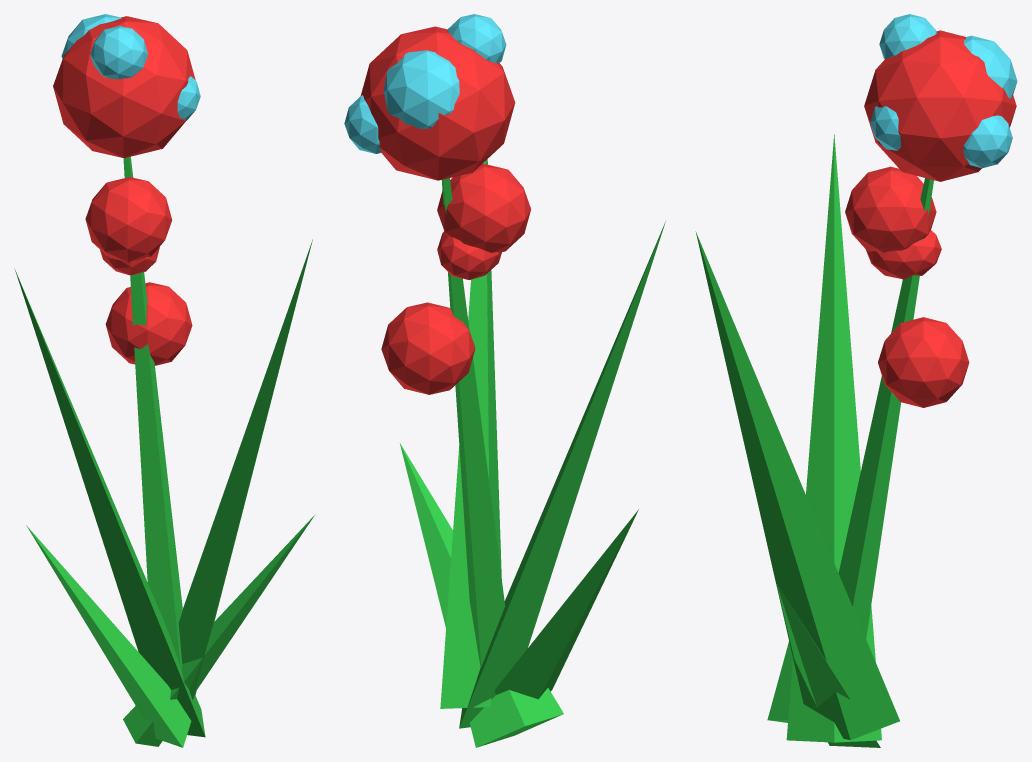
File: FlowerRed2.obj
The picture shows the model from 3 angles, left to right: view 1: azimuth 30°, elevation 25°; view 2: azimuth 150°, elevation 25°; view 3: azimuth 270°, elevation 25°; orthographic projection. The views are drawn at different scales.
Parts seen in each view (by area): view 1: FlowerRed2; view 2: FlowerRed2; view 3: FlowerRed2.
Boxes of the visible parts, bbox=[...] form: FlowerRed2: bbox=[14, 14, 315, 747]; FlowerRed2: bbox=[344, 14, 665, 747]; FlowerRed2: bbox=[695, 14, 1017, 747].
Size of the model in its own units: 0.131 by 0.3159 by 0.1266.
